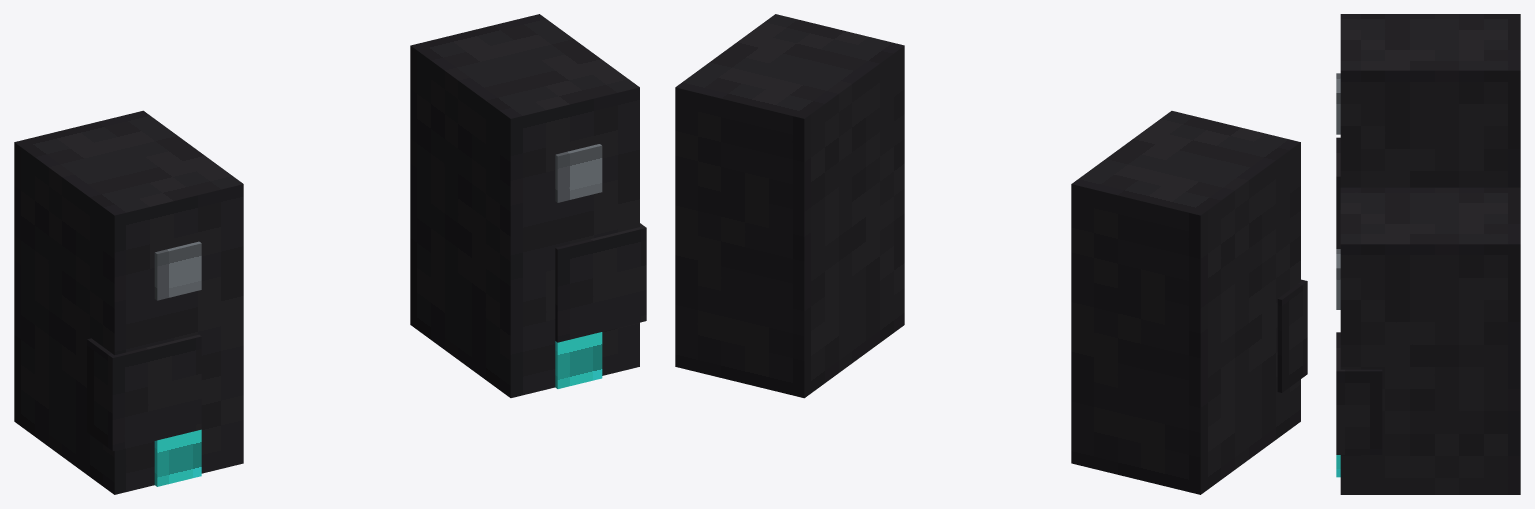
Rendered from studioMonitors_0.glb.
3 renders of one model, left to right at view 1: azimuth 30°, elevation 25°; view 2: azimuth 150°, elevation 25°; view 3: azimuth 270°, elevation 25°, orthographic. The views are drawn at different scales.
Visible parts, largest first — view 1: studioMonitors_0; view 2: studioMonitors_0; view 3: studioMonitors_0.
Part boxes in pixels (x1,y1,x2,y2): studioMonitors_0: (14, 14, 646, 494); studioMonitors_0: (675, 14, 1307, 494); studioMonitors_0: (1336, 14, 1520, 494).
Bounding box in the file's own units: 0.75 × 0.375 × 0.25.
1 material, 1 textured.
